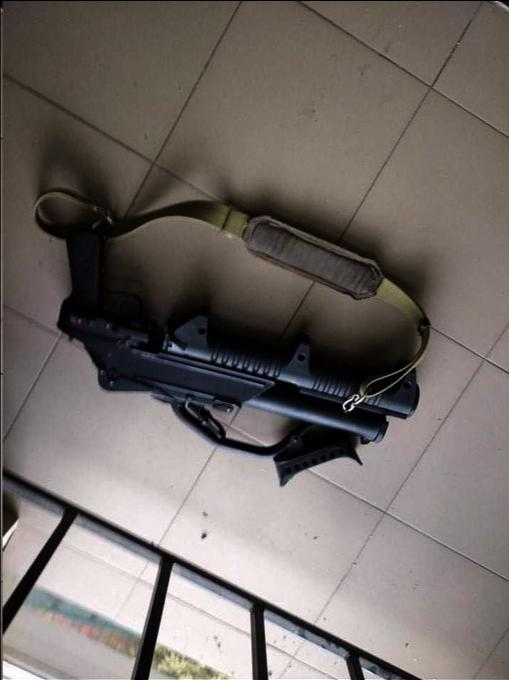gun: (49, 222, 419, 446)
